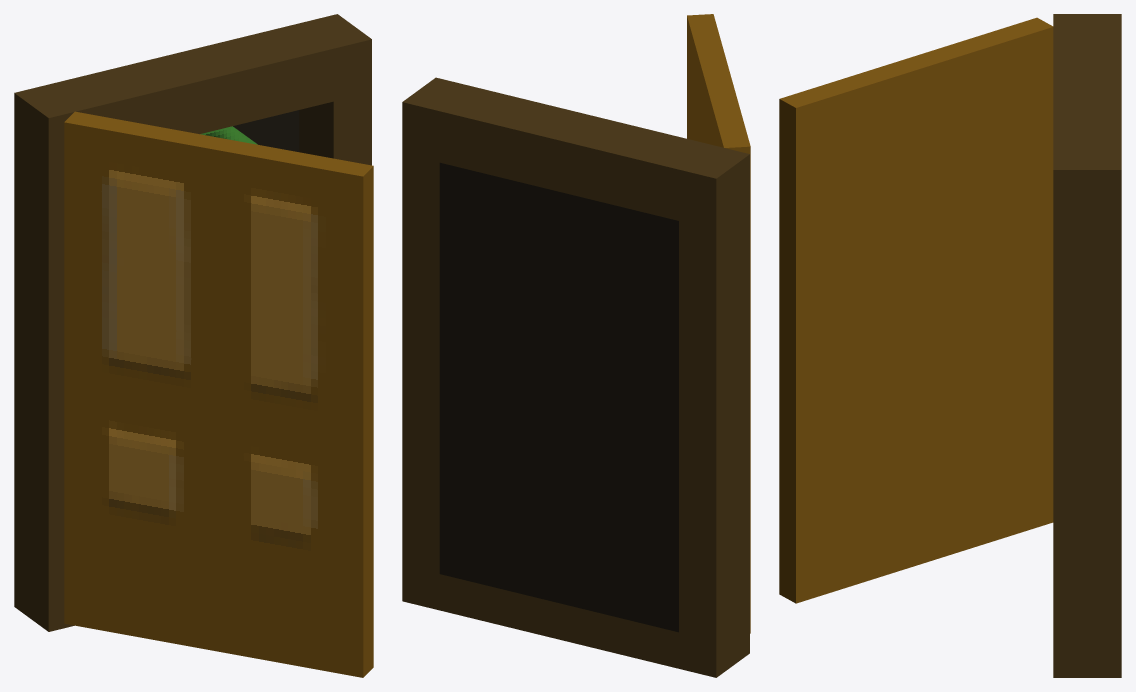
The model's file is pocket_dimension.glb.
The picture shows the model from 3 angles, left to right: view 1: azimuth 30°, elevation 25°; view 2: azimuth 150°, elevation 25°; view 3: azimuth 270°, elevation 25°; orthographic projection. The views are drawn at different scales.
Visible parts, largest first — view 1: door, trim; view 2: trim, door; view 3: door, trim.
Boxes of the visible parts, x1,y1,x2,y2 form: door: (64, 111, 373, 677); trim: (14, 14, 371, 631); trim: (402, 77, 749, 677); door: (687, 14, 750, 633); door: (779, 17, 1053, 603); trim: (1053, 14, 1121, 677).
Size of the model in its own units: 0.3375 by 0.5125 by 0.3128.
Materials: 3 (3 with a texture image).
